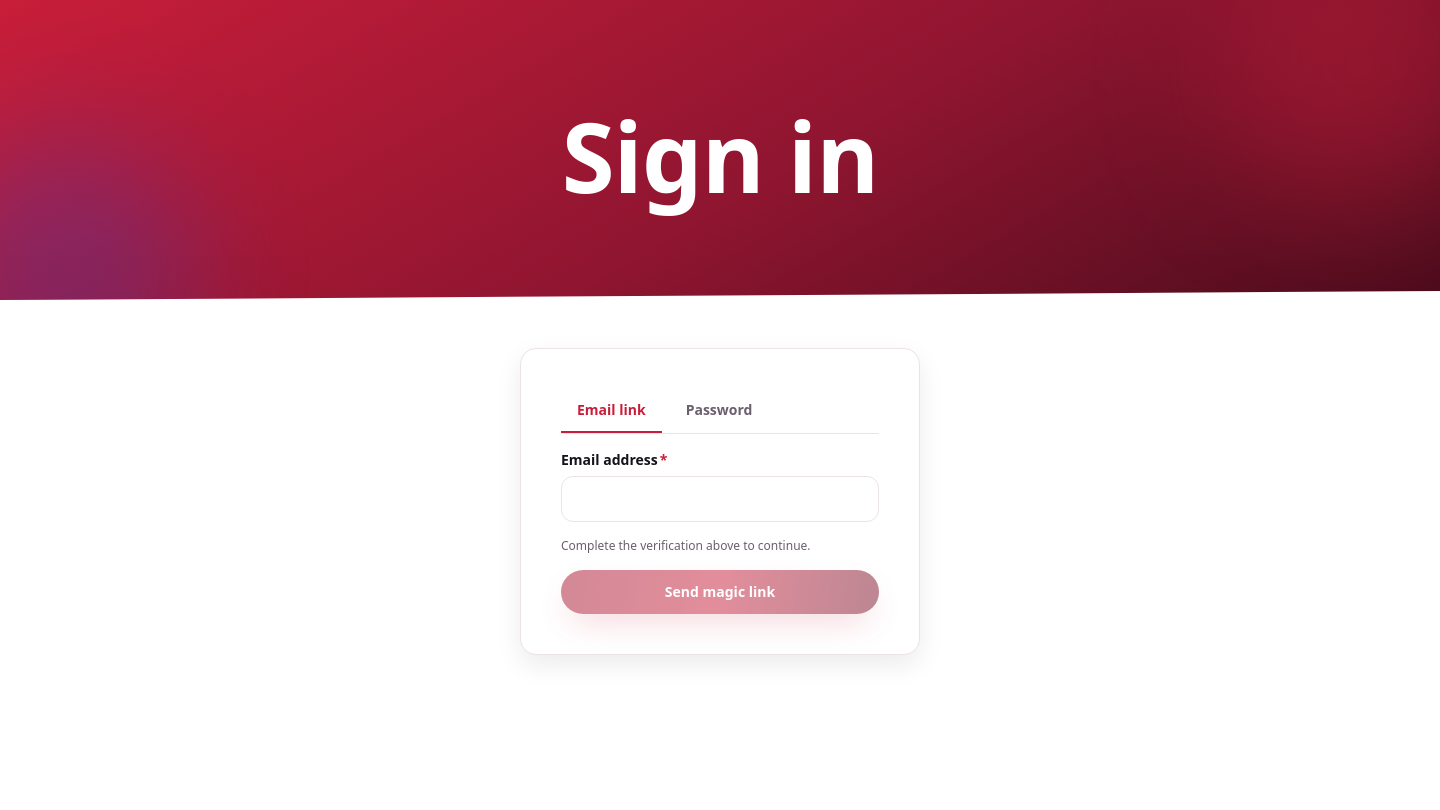
Test: AccountLoginPage › Password tab › switches to the password form, revealing a password field
Click the tab "Password": (719, 411) left=670, top=389, right=768, bottom=433
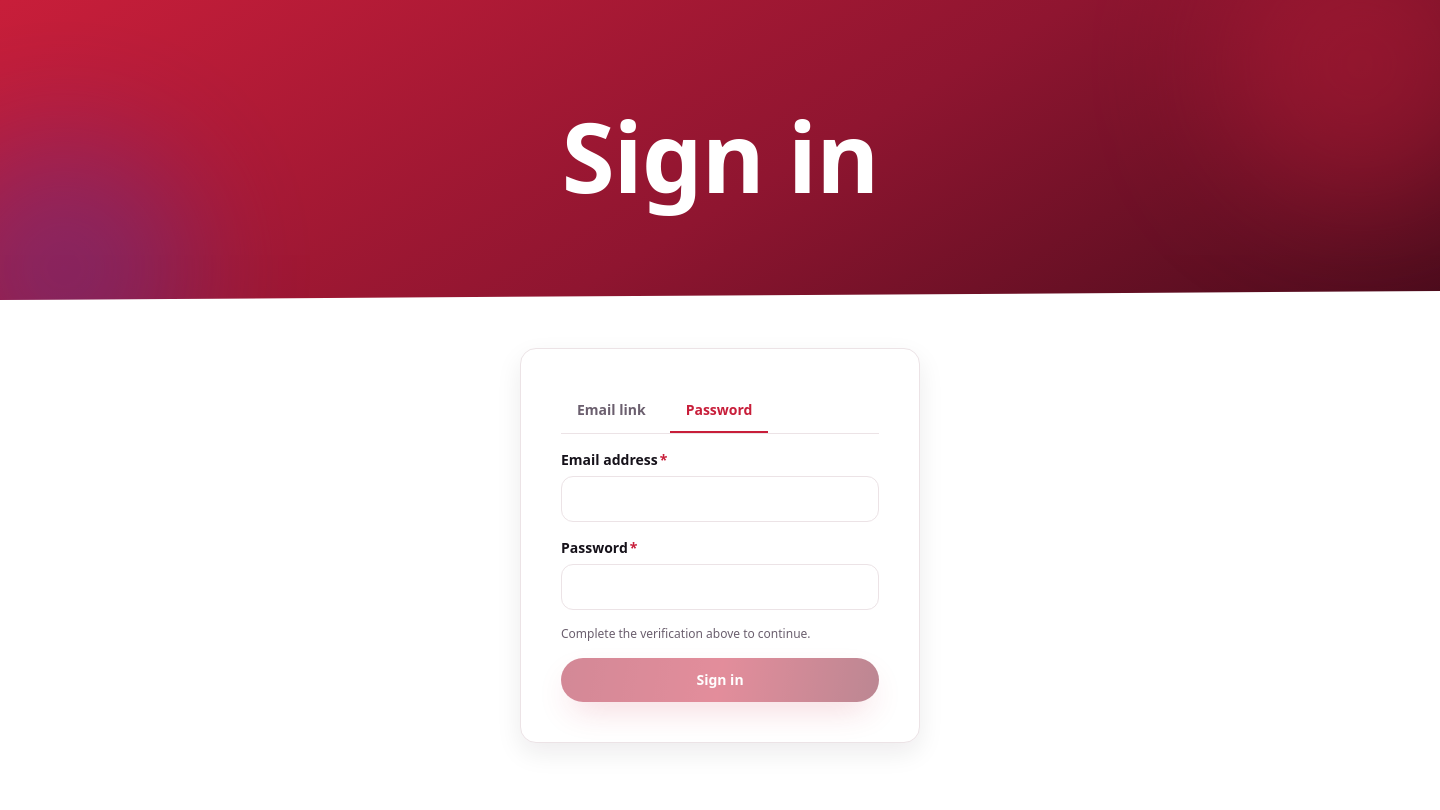
Now the password field labelled "Password" is shown, box left=561, top=564, right=879, bottom=610
Now the button "Sign in" is shown, box left=561, top=658, right=879, bottom=702
